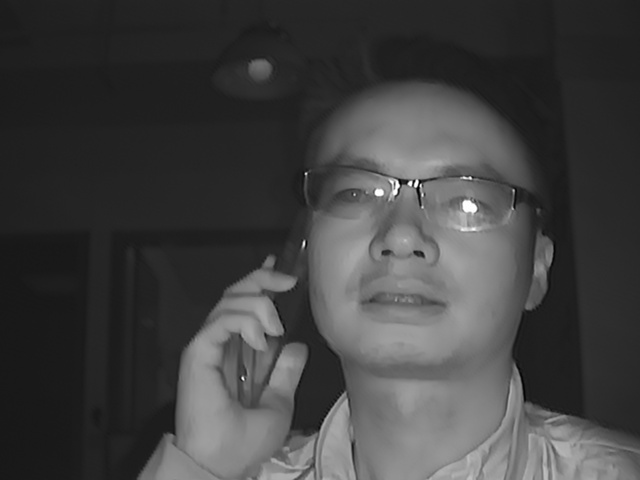hand: (173, 253, 307, 445)
